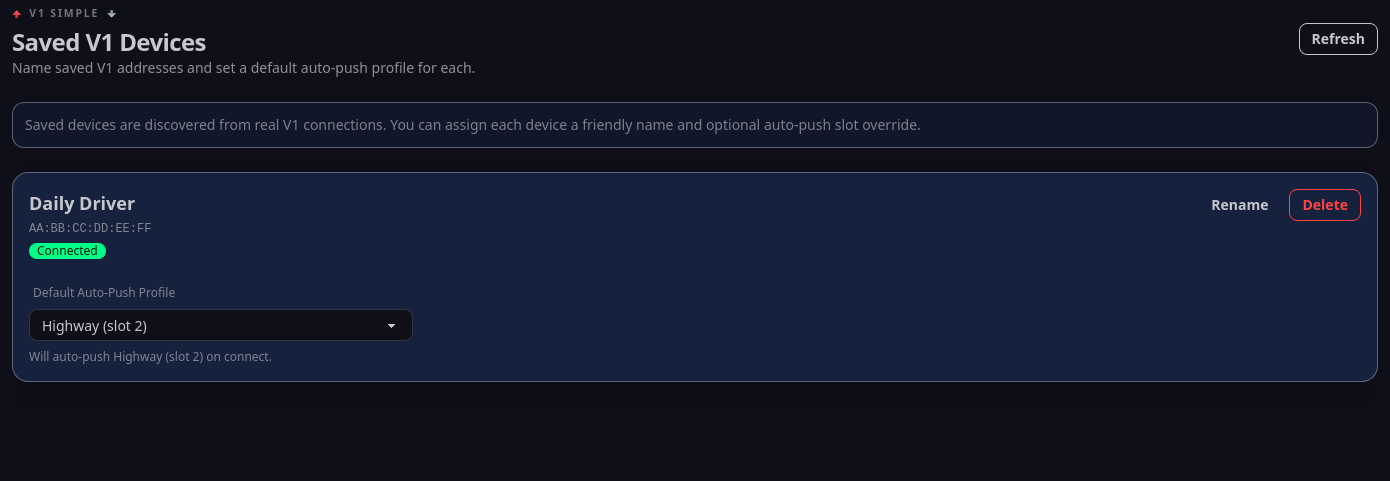
Test: devices route page › keeps the device listed when delete fails
Check: the heading "Daily Driver" is shown, box [29,189,151,217]
Click the button "Delete". click: coordinates (1325, 205)
box: [1290,189,1361,221]
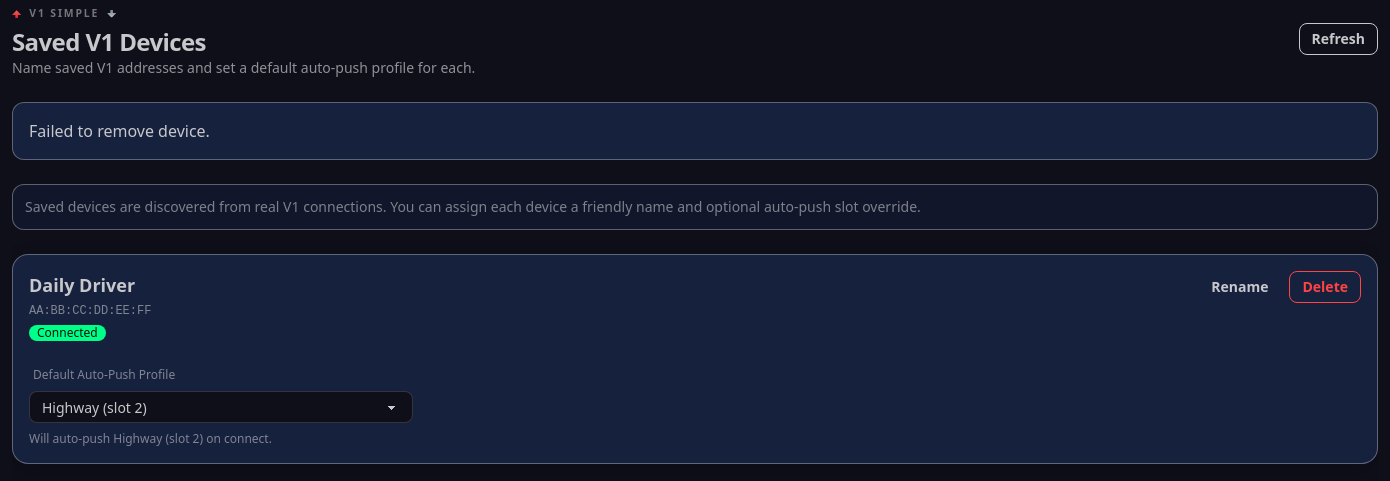
Check: the heading "Daily Driver" is shown, box [29,271,151,299]
Check: the text "Failed to remove device." is shown, box [29,119,210,143]
